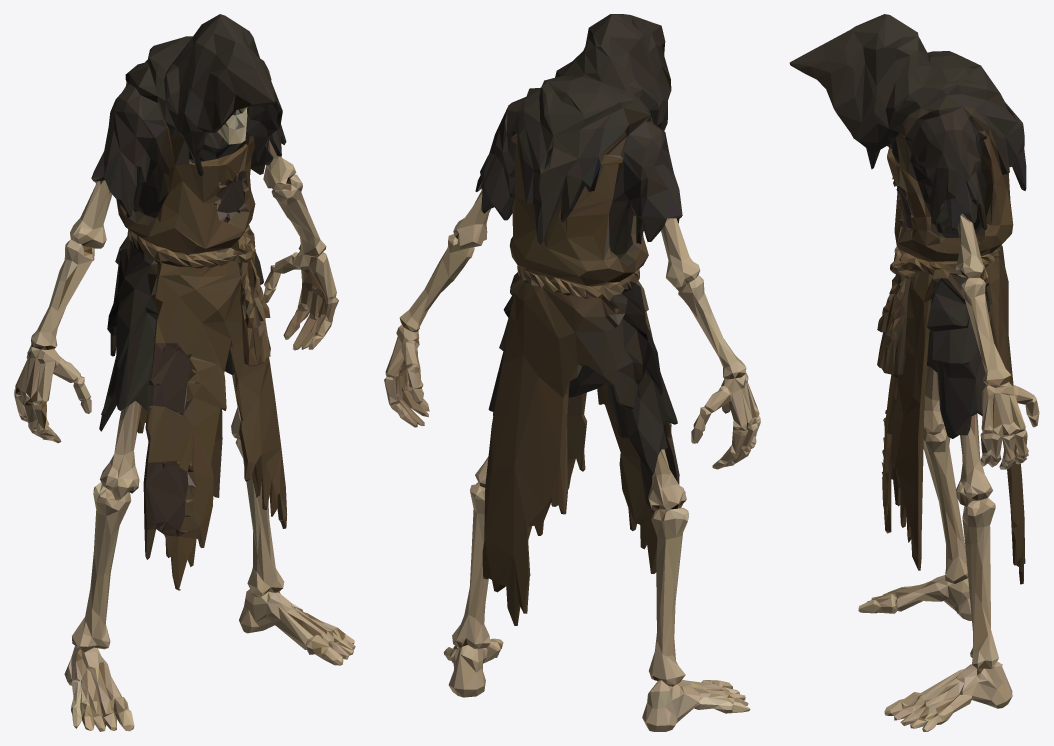
The model's file is gravedigger.glb.
3 views of the same model, side by side, from view 1: azimuth 30°, elevation 25°; view 2: azimuth 150°, elevation 25°; view 3: azimuth 270°, elevation 25° (orthographic). The views are drawn at different scales.
Parts seen in each view (by area): view 1: tripo_node_92e336cd-7f7e-4308-8207-20744ac63bc7; view 2: tripo_node_92e336cd-7f7e-4308-8207-20744ac63bc7; view 3: tripo_node_92e336cd-7f7e-4308-8207-20744ac63bc7.
Boxes of the visible parts, x1,y1,x2,y2 form: tripo_node_92e336cd-7f7e-4308-8207-20744ac63bc7: [14, 14, 355, 731]; tripo_node_92e336cd-7f7e-4308-8207-20744ac63bc7: [384, 14, 760, 731]; tripo_node_92e336cd-7f7e-4308-8207-20744ac63bc7: [789, 14, 1039, 731].
Size of the model in its own units: 1.06 by 2 by 0.7004.
